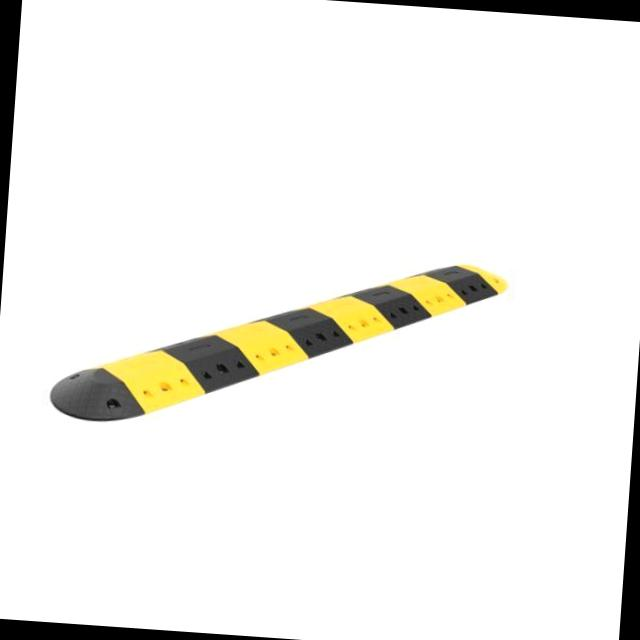bump: (45, 216, 509, 477)
